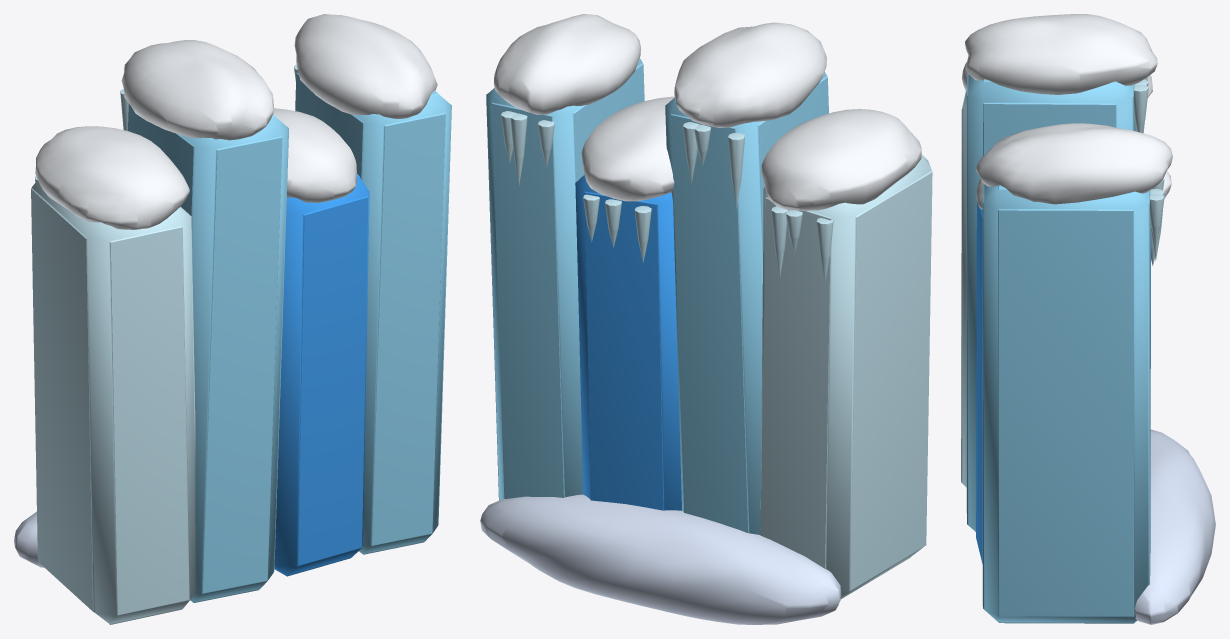
File: IceCliffA.glb
3 views of the same model, side by side, from view 1: azimuth 30°, elevation 25°; view 2: azimuth 150°, elevation 25°; view 3: azimuth 270°, elevation 25° (orthographic).
Parts seen in each view (by area): view 1: IceCliffA; view 2: IceCliffA; view 3: IceCliffA.
Part boxes in pixels (x1,y1,x2,y2): IceCliffA: (14, 14, 451, 624); IceCliffA: (480, 14, 932, 624); IceCliffA: (961, 14, 1215, 624).
Bounding box in the file's own units: 30.67 × 42.13 × 18.28.
Materials: 1 (1 with a texture image).
